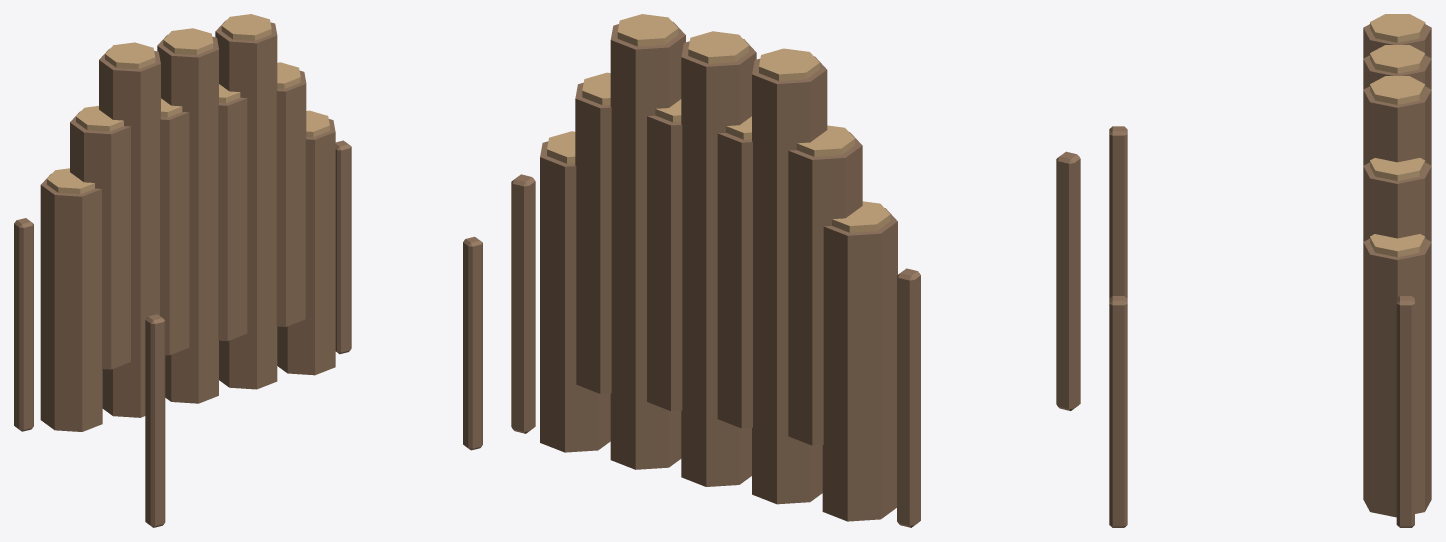
Rendered from ob_logpile.glb.
The picture shows the model from 3 angles, left to right: view 1: azimuth 30°, elevation 25°; view 2: azimuth 150°, elevation 25°; view 3: azimuth 270°, elevation 25°; orthographic projection. The views are drawn at different scales.
Visible parts, largest first — view 1: log-pile_0, log-pile_1; view 2: log-pile_0, log-pile_1; view 3: log-pile_0, log-pile_1.
Part boxes in pixels (left/top/right/bottom): log-pile_0: left=14, top=20, right=482, bottom=527; log-pile_1: left=47, top=14, right=329, bottom=194; log-pile_0: left=511, top=22, right=1080, bottom=527; log-pile_1: left=547, top=14, right=890, bottom=232; log-pile_0: left=1109, top=24, right=1431, bottom=527; log-pile_1: left=1370, top=14, right=1425, bottom=257.
Bounding box in the file's own units: 2.51 × 2.55 × 1.93.
